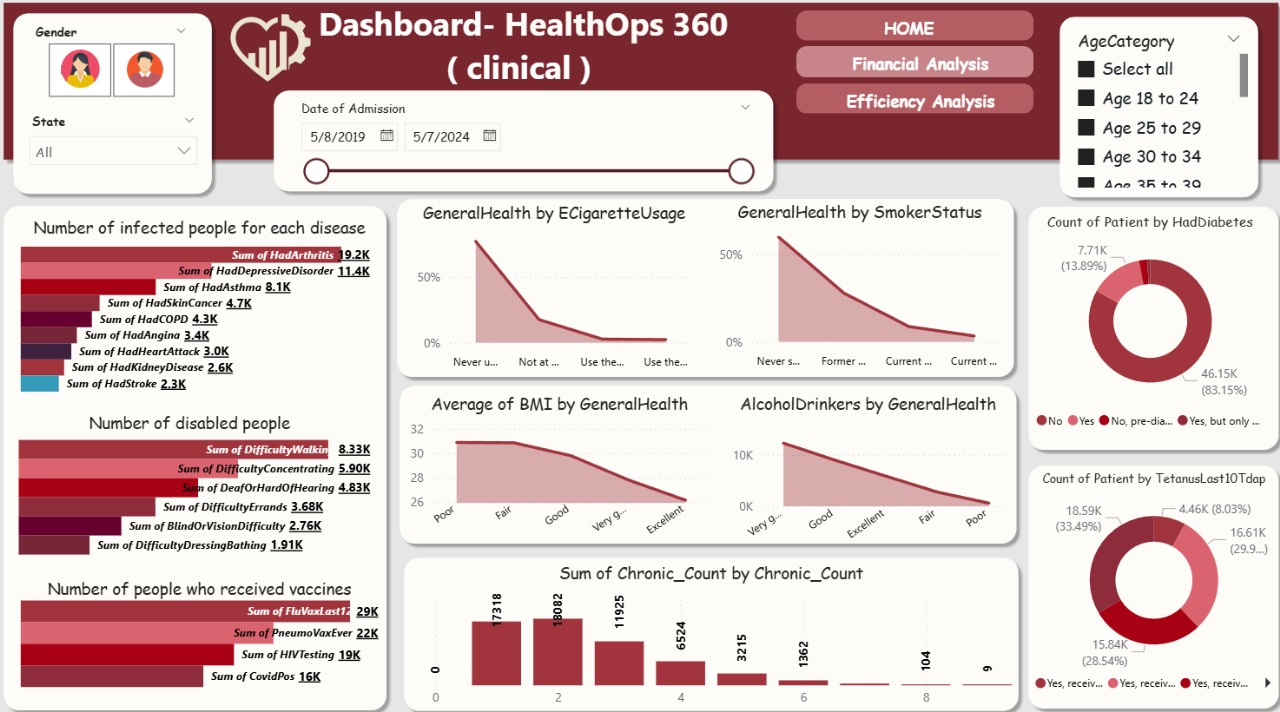

Layout of this report page (visuals, bound fields, positions):
{"tool":"powerbi","page":{"name":"Duplicate of clinical","canvas":[1280,720],"ordinal":3},"visuals":[{"type":"shape","box":[1017.4,202.3,262.8,255.5],"z":0,"group":"g1"},{"type":"shape","box":[393,380.2,626.7,170.9],"z":0},{"type":"shape","box":[0,0,1280.2,169.8],"z":1000,"group":"g2"},{"type":"shape","box":[0,201.9,394.3,515],"z":1000},{"type":"shape","box":[1048.9,14.1,211.3,193.4],"z":2000,"group":"g2"},{"type":"clusteredBarChart","fields":{"Y":["Sum(الجدول2_3.DifficultyWalking)","Sum(الجدول2_3.DifficultyConcentrating)","Sum(الجدول2_3.DeafOrHardOfHearing)","Sum(الجدول2_3.DifficultyErrands)","Sum(الجدول2_3.BlindOrVisionDifficulty)","Sum(الجدول2_3.DifficultyDressingBathing)"]},"box":[0,414.1,376.4,160.4],"z":2000},{"type":"shape","box":[9.4,10.4,211.3,193.4],"z":3000,"group":"g2"},{"type":"clusteredBarChart","title":"Number of infected people for each disease","fields":{"Y":["Sum(الجدول2_3.HadArthritis)","Sum(الجدول2_3.HadDepressiveDisorder)","Sum(الجدول2_3.HadAsthma)","Sum(الجدول2_3.HadSkinCancer)","Sum(الجدول2_3.HadCOPD)","Sum(الجدول2_3.HadAngina)","Sum(الجدول2_3.HadHeartAttack)","Sum(الجدول2_3.HadKidneyDisease)","Sum(الجدول2_3.HadStroke)"]},"box":[18.9,216,356.6,224.5],"z":3000},{"type":"clusteredBarChart","fields":{"Y":["Sum(الجدول2_3.FluVaxLast12)","Sum(الجدول2_3.PneumoVaxEver)","Sum(الجدول2_3.HIVTesting)","Sum(الجدول2_3.CovidPos)"]},"box":[18.9,577.3,365,125.5],"z":4000},{"type":"slicer","fields":{"Values":["الجدول2_3.Sex"]},"box":[25.9,22.4,175.1,84.5],"z":5000,"group":"g2"},{"type":"textbox","box":[9.4,213.2,383.9,41.5],"z":5000},{"type":"textbox","box":[302.3,0,440.7,97.7],"z":6000,"group":"g2"},{"type":"textbox","box":[0,407.5,267.9,41.5],"z":6000},{"type":"shape","box":[794.3,14.3,235.7,30],"z":7000,"group":"g2"},{"type":"textbox","box":[18.9,571.6,329.2,41.5],"z":7000},{"type":"shape","box":[794.3,87.1,235.7,30],"z":8000,"group":"g2"},{"type":"shape","box":[397.7,551.2,624.4,166.3],"z":8000},{"type":"shape","box":[794.3,50,235.7,31.4],"z":9000,"group":"g2"},{"type":"shape","box":[390.7,195.3,626.7,190.7],"z":9000},{"type":"textbox","box":[820,14.3,178.6,35.7],"z":10000,"group":"g2"},{"type":"areaChart","fields":{"Category":["الجدول2_3.GeneralHealth"],"Y":["Avg(الجدول2_3.BMI)"]},"box":[409.3,397.7,305.8,153.5],"z":10000},{"type":"textbox","box":[805.7,87.1,224.3,41.4],"z":11000,"group":"g2"},{"type":"group","id":"g1","title":"Group 2","box":[1017.4,202.3,262.8,512.8],"z":11000},{"type":"textbox","box":[805.6,50,224.3,37.1],"z":12000,"group":"g2"},{"type":"clusteredColumnChart","fields":{"Category":["الجدول2_3.Chronic_Count"],"Y":["Sum(الجدول2_3.Chronic_Count)"]},"box":[406.3,561.5,607.2,153.5],"z":12000},{"type":"slicer","fields":{"Values":["الجدول2_3.AgeCategory"]},"box":[1061.2,27.4,186.8,167.9],"z":13000,"group":"g2"},{"type":"areaChart","title":"GeneralHealth by ECigaretteUsage","fields":{"Category":["الجدول2_3.ECigaretteUsage"],"Y":["Divide(CountNonNull(الجدول2_3.GeneralHealth), ScopedEval(CountNonNull(الجدول2_3.GeneralHealth), []))"]},"box":[409.7,203.6,288.1,175.1],"z":13000},{"type":"areaChart","title":"GeneralHealth by SmokerStatus","fields":{"Y":["Divide(CountNonNull(الجدول2_3.GeneralHealth), ScopedEval(CountNonNull(الجدول2_3.GeneralHealth), []))"],"Category":["الجدول2_3.SmokerStatus"]},"box":[709.9,202.7,295,175.1],"z":14000},{"type":"areaChart","title":"AlcoholDrinkers by GeneralHealth","fields":{"Y":["Sum(الجدول2_3.AlcoholDrinkers)"],"Category":["الجدول2_3.GeneralHealth"]},"box":[719.8,402.3,290.7,148.8],"z":15000},{"type":"group","id":"g2","title":"Group 1","box":[0,0,1280.2,207.5],"z":16000},{"type":"image","box":[220.8,13.8,102.6,88],"z":17000},{"type":"image","box":[48.3,53.5,70.7,38],"z":18000},{"type":"image","box":[110.4,55.2,73.3,36.2],"z":19000},{"type":"slicer","fields":{"Values":["الجدول2_3.State"]},"box":[22.6,111.3,186.8,72.6],"z":20000,"group":"g2"},{"type":"donutChart","title":"Count of Patient by HadDiabetes","fields":{"Category":["الجدول2_3.HadDiabetes"],"Y":["CountNonNull(الجدول2_3.PatientID)"]},"box":[1024.8,214.6,240.7,224.3],"z":20000,"group":"g1"},{"type":"shape","box":[1017.4,459.6,262.8,255.5],"z":21000,"group":"g1"},{"type":"shape","box":[267.9,86.8,510.3,114.1],"z":22000,"group":"g2"},{"type":"donutChart","title":"Count of Patient by TetanusLast10Tdap","fields":{"Category":["الجدول2_3.TetanusLast10Tdap"],"Y":["CountNonNull(الجدول2_3.PatientID)"]},"box":[1025.7,471,246.3,230],"z":22000,"group":"g1"},{"type":"slicer","fields":{"Values":["الجدول2_3.Date of Admission"]},"box":[289.6,98.1,471.6,97.2],"z":24000,"group":"g2"}]}

Visuals, with their boxes in screenshot pixels (x1, y1, x2, y2), scaled from the page's 1280x720 canvas onto the 1280x712 screenshot:
shape: box=[1017, 200, 1279, 453]
shape: box=[393, 376, 1020, 545]
shape: box=[0, 0, 1279, 168]
shape: box=[0, 200, 394, 709]
shape: box=[1049, 14, 1260, 205]
clusteredBarChart - Sum(الجدول2_3.DifficultyWalking) x Sum(الجدول2_3.DifficultyConcentrating): box=[0, 409, 376, 568]
shape: box=[9, 10, 221, 202]
"Number of infected people for each disease" clusteredBarChart: box=[19, 214, 376, 436]
clusteredBarChart - Sum(الجدول2_3.FluVaxLast12) x Sum(الجدول2_3.PneumoVaxEver): box=[19, 571, 384, 695]
slicer - الجدول2_3.Sex: box=[26, 22, 201, 106]
textbox: box=[9, 211, 393, 252]
textbox: box=[302, 0, 743, 97]
textbox: box=[0, 403, 268, 444]
shape: box=[794, 14, 1030, 44]
textbox: box=[19, 565, 348, 606]
shape: box=[794, 86, 1030, 116]
shape: box=[398, 545, 1022, 710]
shape: box=[794, 49, 1030, 80]
shape: box=[391, 193, 1017, 382]
textbox: box=[820, 14, 999, 49]
areaChart - الجدول2_3.GeneralHealth x Avg(الجدول2_3.BMI): box=[409, 393, 715, 545]
textbox: box=[806, 86, 1030, 127]
"Group 2" group: box=[1017, 200, 1279, 707]
textbox: box=[806, 49, 1030, 86]
clusteredColumnChart - الجدول2_3.Chronic_Count x Sum(الجدول2_3.Chronic_Count): box=[406, 555, 1014, 707]
slicer - الجدول2_3.AgeCategory: box=[1061, 27, 1248, 193]
"GeneralHealth by ECigaretteUsage" areaChart: box=[410, 201, 698, 374]
"GeneralHealth by SmokerStatus" areaChart: box=[710, 200, 1005, 374]
"AlcoholDrinkers by GeneralHealth" areaChart: box=[720, 398, 1010, 545]
"Group 1" group: box=[0, 0, 1279, 205]
image: box=[221, 14, 323, 101]
image: box=[48, 53, 119, 90]
image: box=[110, 55, 184, 90]
slicer - الجدول2_3.State: box=[23, 110, 209, 182]
"Count of Patient by HadDiabetes" donutChart: box=[1025, 212, 1266, 434]
shape: box=[1017, 454, 1279, 707]
shape: box=[268, 86, 778, 199]
"Count of Patient by TetanusLast10Tdap" donutChart: box=[1026, 466, 1272, 693]
slicer - الجدول2_3.Date of Admission: box=[290, 97, 761, 193]
